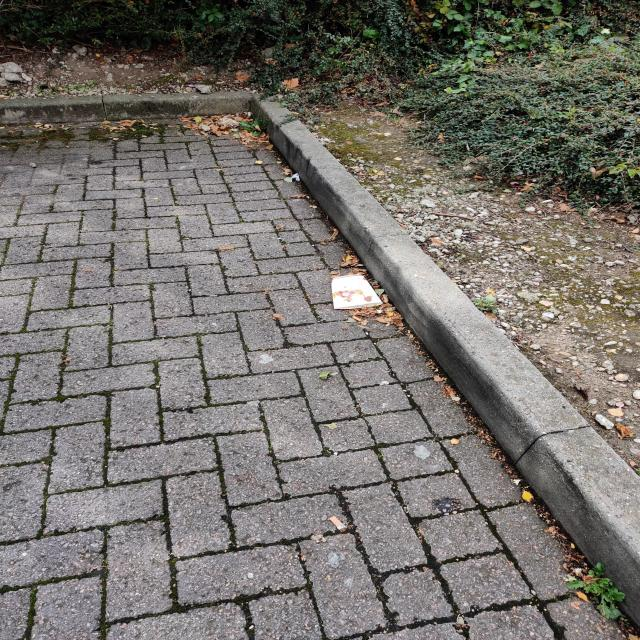litter: (325, 272, 381, 311)
